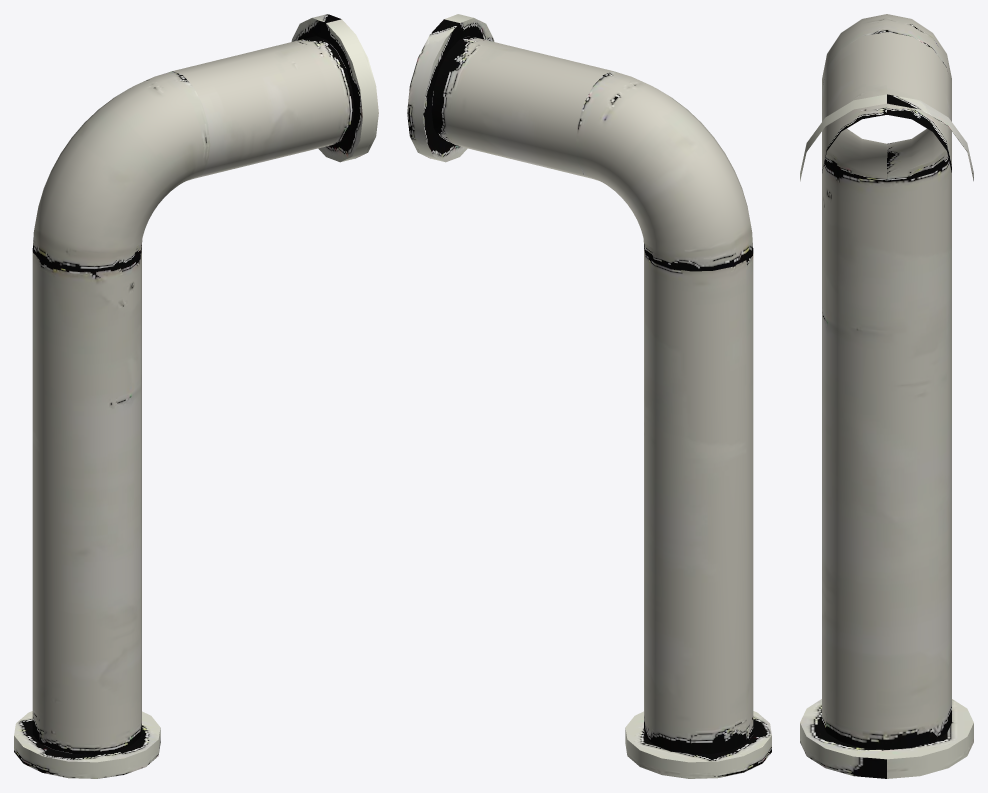
The picture shows the model from 3 angles, left to right: view 1: azimuth 30°, elevation 25°; view 2: azimuth 150°, elevation 25°; view 3: azimuth 270°, elevation 25°; orthographic projection. The views are drawn at different scales.
Parts seen in each view (by area): view 1: body0_model0_lod0_mesh0; view 2: body0_model0_lod0_mesh0; view 3: body0_model0_lod0_mesh0.
Boxes of the visible parts, x1=… form: body0_model0_lod0_mesh0: x1=14, y1=14, x2=378, y2=778; body0_model0_lod0_mesh0: x1=407, y1=14, x2=771, y2=778; body0_model0_lod0_mesh0: x1=800, y1=14, x2=973, y2=778.
Size of the model in its own units: 80.09 by 160 by 32.15.
1 material, 1 textured.
